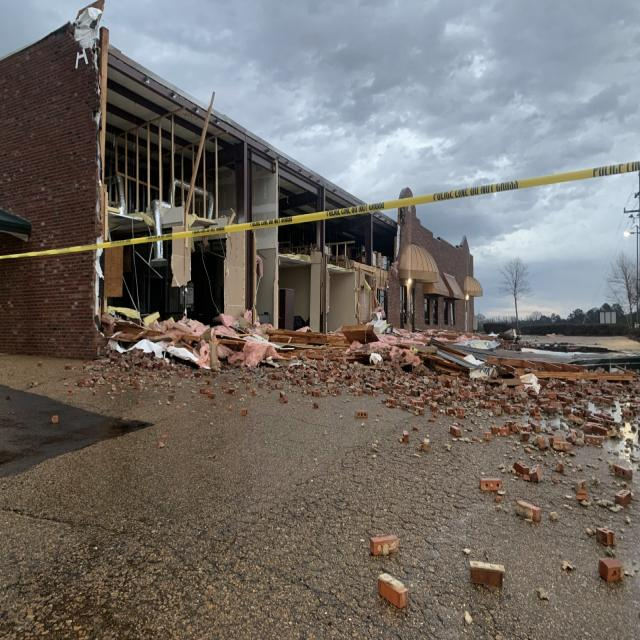Severely_Damaged: (67, 0, 482, 371)
